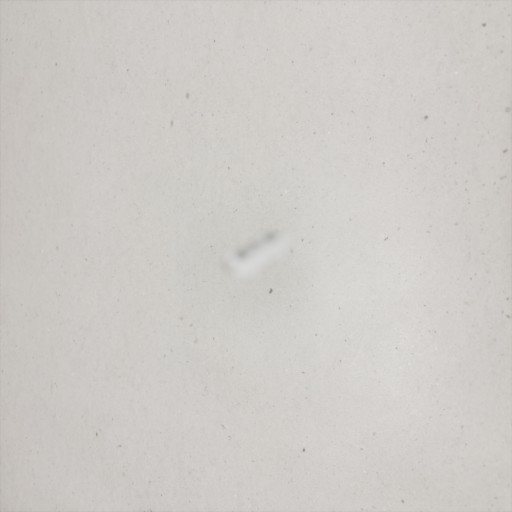lego: (218, 230, 294, 281)
